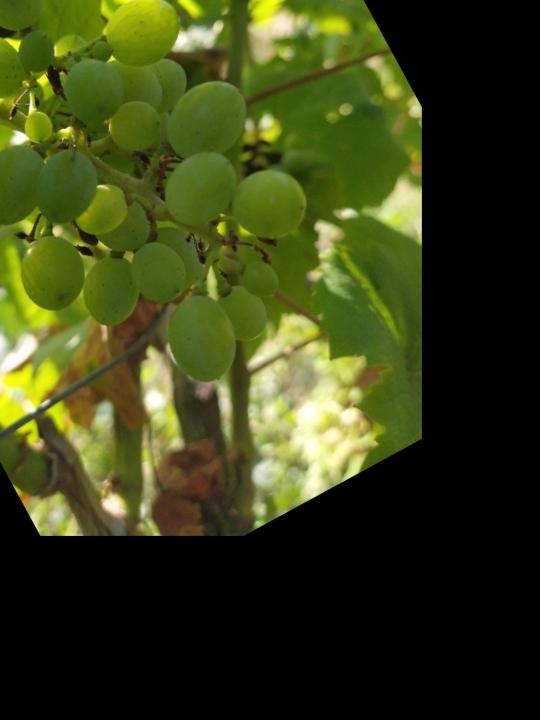grape: (0, 0, 369, 489)
